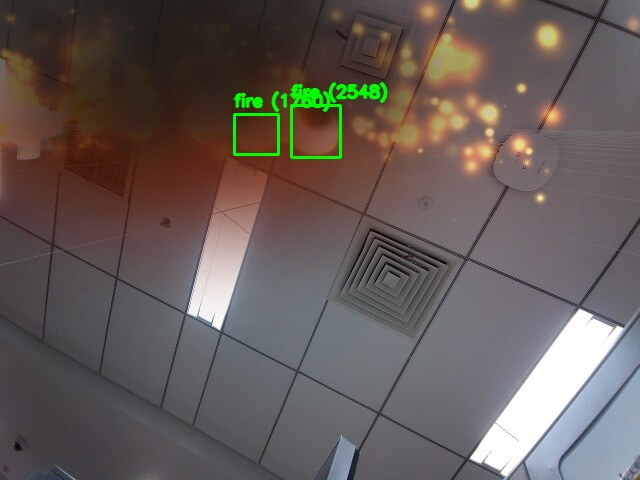fire: (291, 105, 340, 157), (234, 114, 278, 154)
